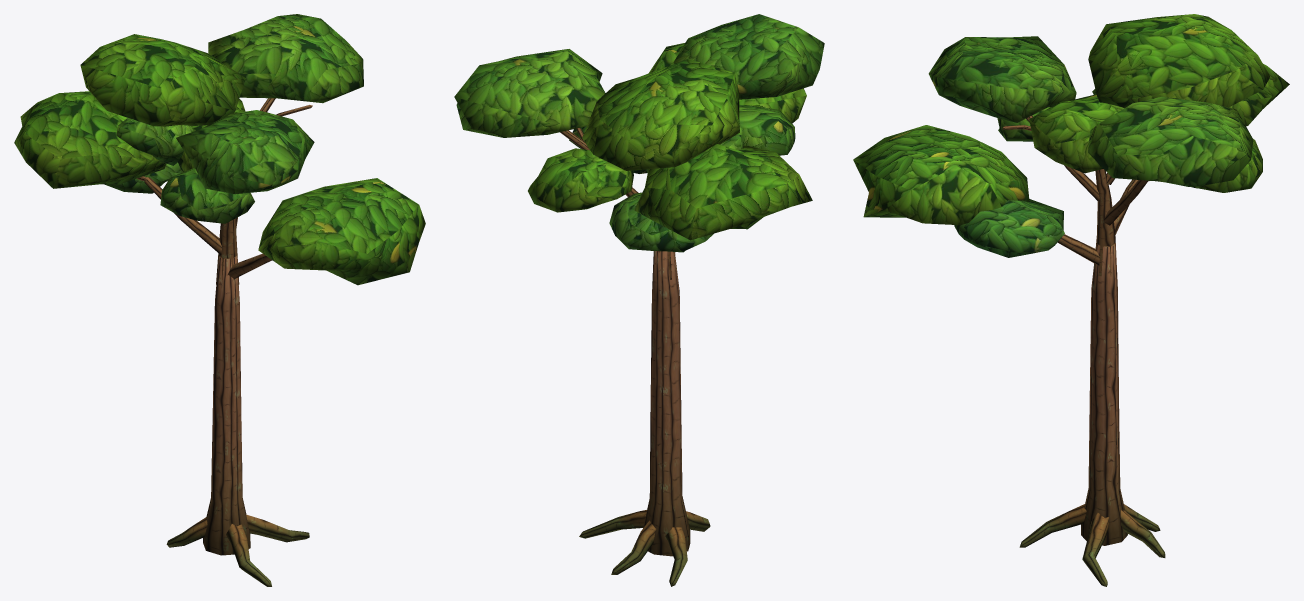
File: tree_young_lod.glb
The picture shows the model from 3 angles, left to right: view 1: azimuth 30°, elevation 25°; view 2: azimuth 150°, elevation 25°; view 3: azimuth 270°, elevation 25°; orthographic projection. The views are drawn at different scales.
Parts seen in each view (by area): view 1: Leaves, Trunk, Roots, Branches; view 2: Leaves, Trunk, Roots; view 3: Leaves, Trunk, Branches, Roots.
Boxes of the visible parts, <box> form: Leaves: <box>14,14,425,285</box>; Trunk: <box>203,256,250,555</box>; Roots: <box>166,514,309,586</box>; Branches: <box>137,98,312,287</box>; Leaves: <box>454,14,824,252</box>; Trunk: <box>643,251,690,556</box>; Roots: <box>579,510,710,586</box>; Leaves: <box>853,14,1289,257</box>; Trunk: <box>1081,243,1127,545</box>; Branches: <box>1002,115,1149,276</box>; Roots: <box>1019,504,1165,586</box>.
Bounding box in the file's own units: 2.94 × 4.3 × 3.38.
Materials: 2 (2 with a texture image).
